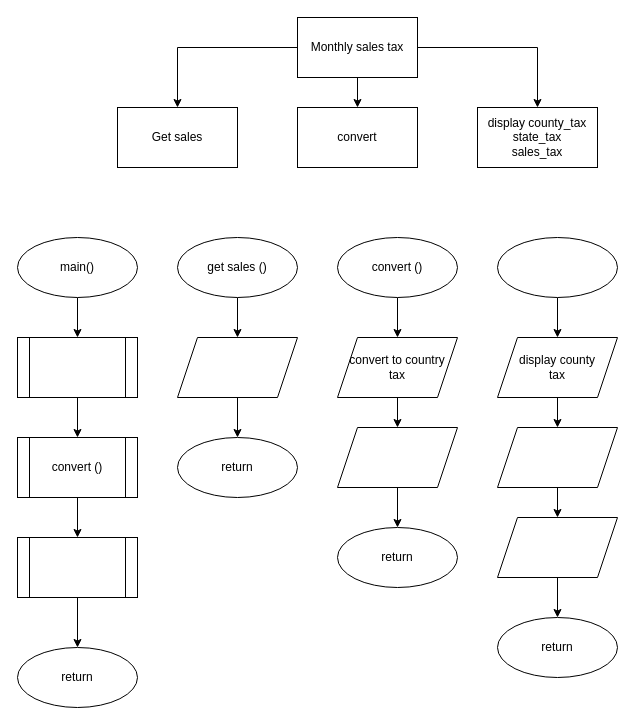
The diagram is 635 pixels wide and 725 high, and some of its shapes have lost their labels. Here are the shapes that lost their labels. From the top down, the centre of each, then its label:
At (557,267): "display county_tax state_tax sales_tax ( )".
At (77,367): "Get sales()".
At (237,367): "ask for sales".
At (397,457): "convert to state tax".
At (557,457): "display state tax".
At (77,567): "display county_tax state_tax sales_tax ()".
At (557,547): "display sales tax".
